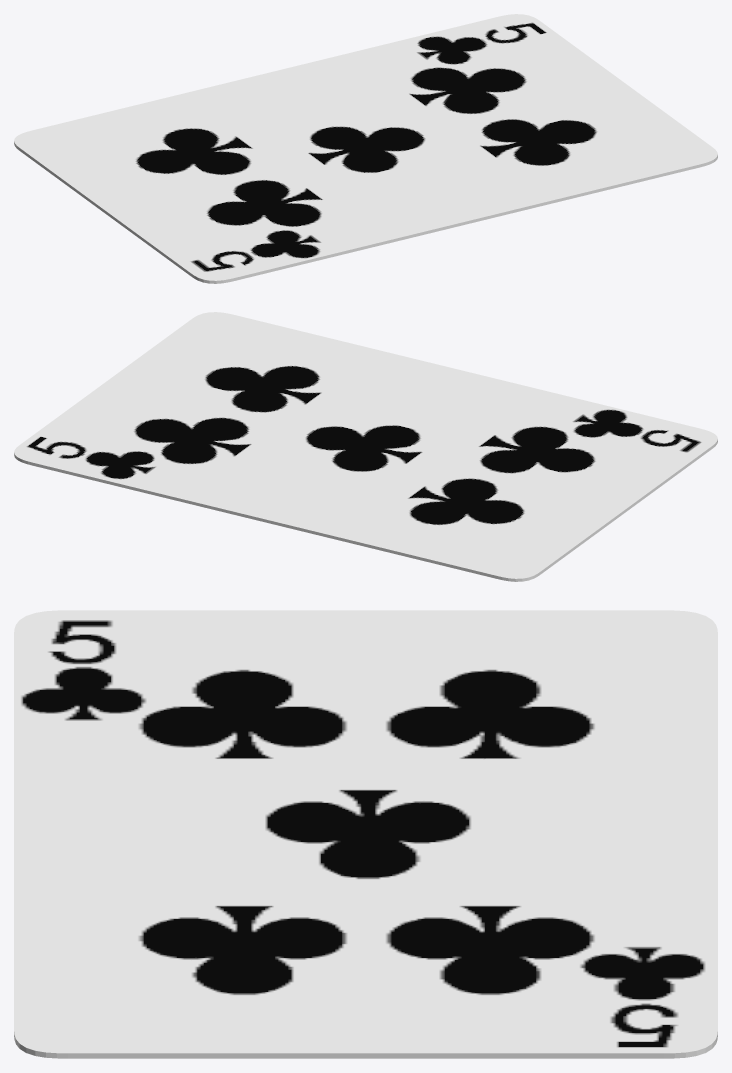
Rendered from 5_of_clubs.gltf.
3 renders of one model, top to bottom at view 1: azimuth 30°, elevation 25°; view 2: azimuth 150°, elevation 25°; view 3: azimuth 270°, elevation 25°, orthographic. The views are drawn at different scales.
Visible parts, largest first — view 1: Plane; view 2: Plane; view 3: Plane.
Boxes of the visible parts, x1,y1,x2,y2 form: Plane: (14,14,717,283); Plane: (14,312,717,581); Plane: (14,610,717,1058).
Size of the model in its own units: 0.09 by 0.0005 by 0.0605.
1 material, 1 textured.
